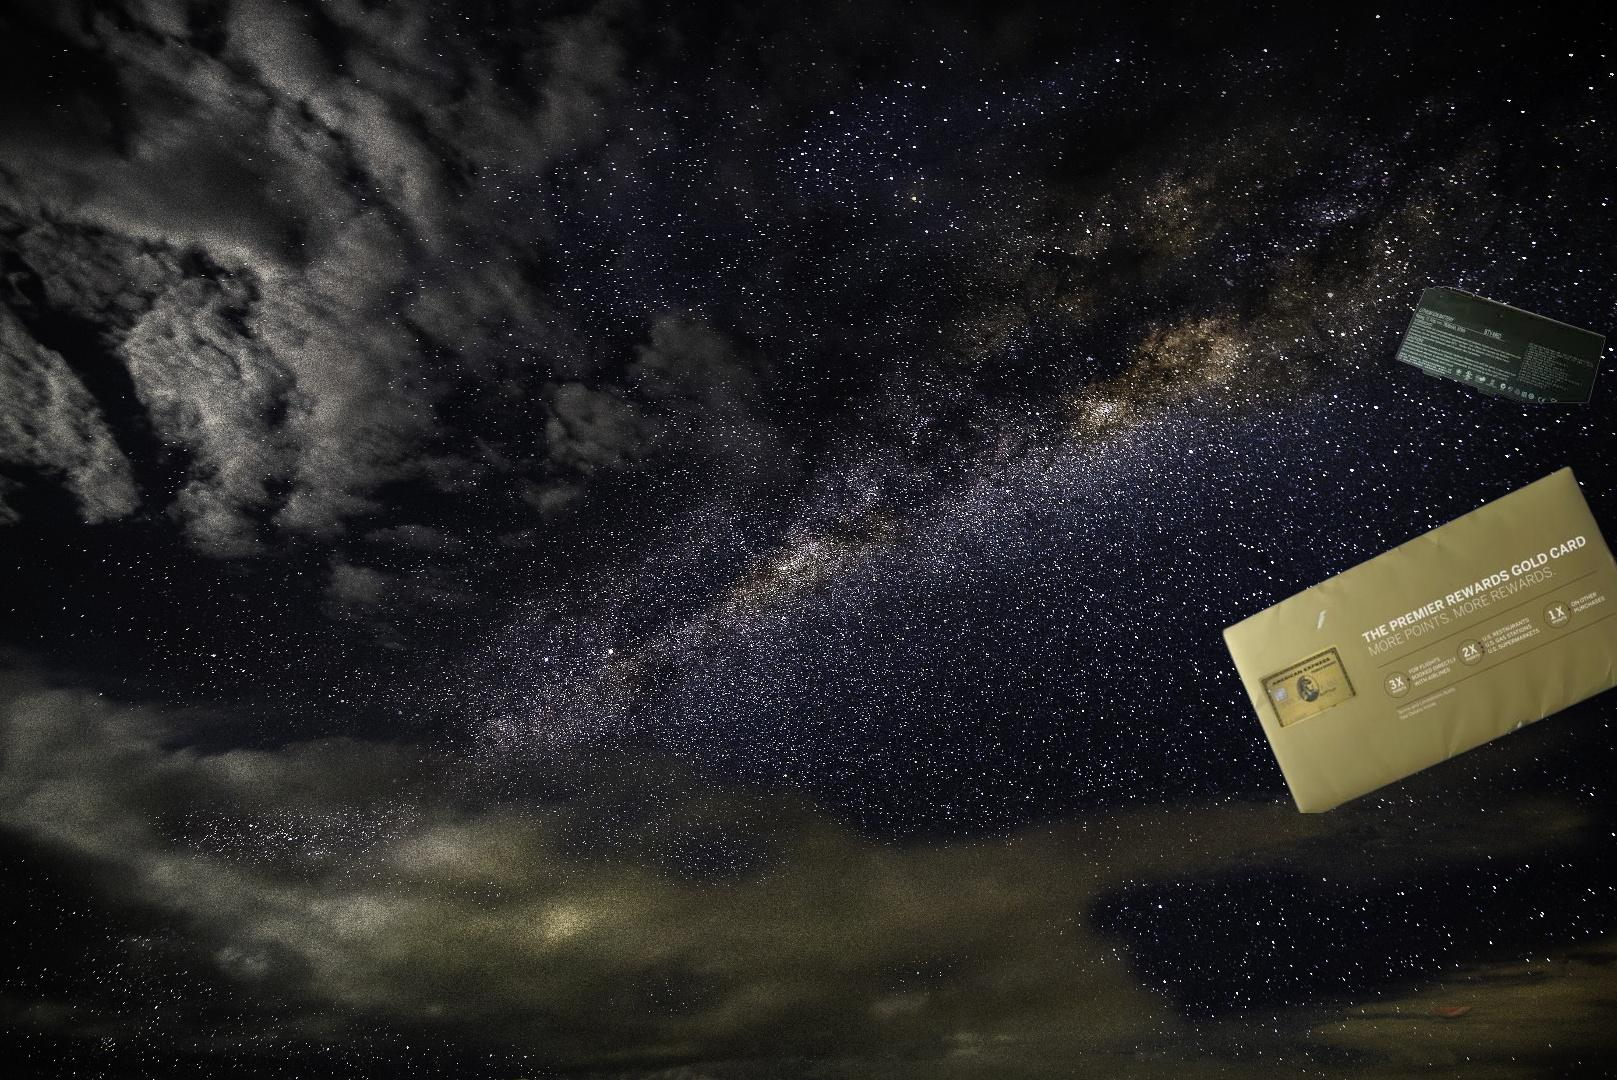battery: (1392, 281, 1609, 404)
glass: (1422, 1006, 1617, 1080)
metal-cans: (475, 1072, 639, 1080)
paper: (1218, 462, 1617, 812)
